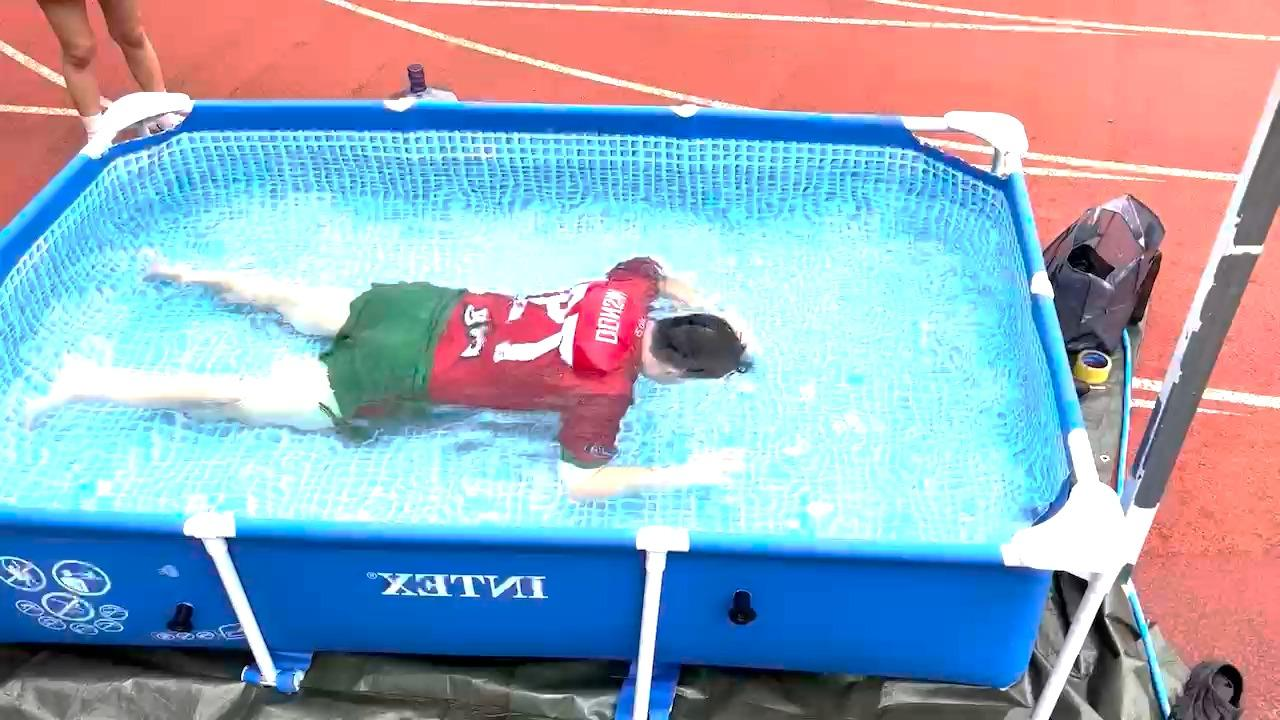Drowning: (43, 216, 795, 491)
